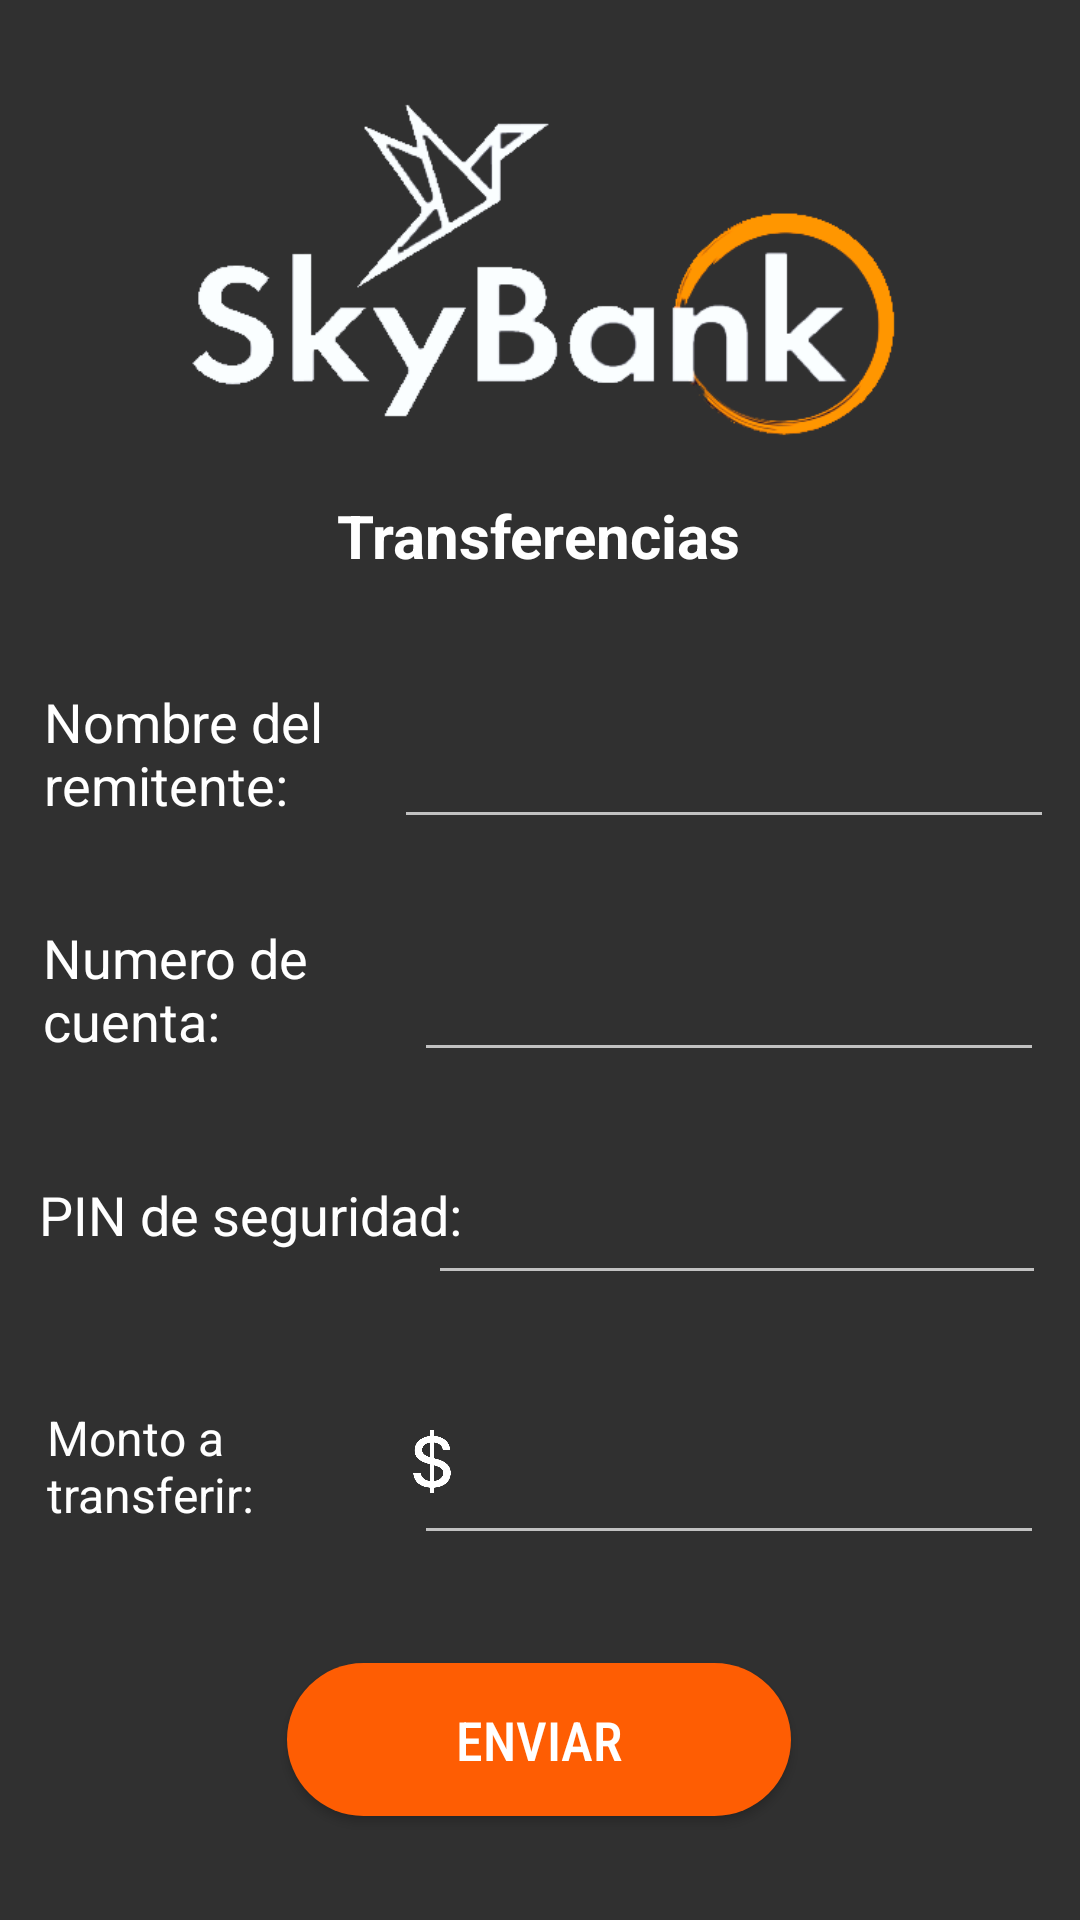

Where icons sit on this 1080w x 1920h app screen, as rect(x1, y1, x2, y2):
dollar: rect(413, 1430, 451, 1493)
